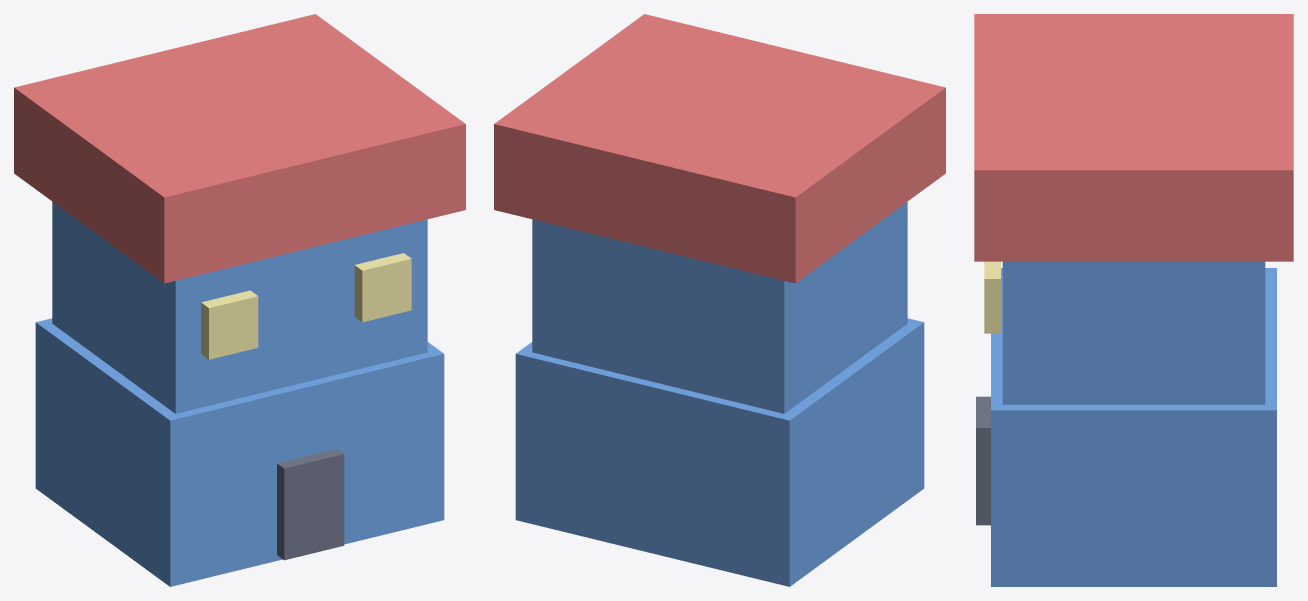
Rendered from house_lv2.gltf.
The picture shows the model from 3 angles, left to right: view 1: azimuth 30°, elevation 25°; view 2: azimuth 150°, elevation 25°; view 3: azimuth 270°, elevation 25°; orthographic projection. The views are drawn at different scales.
Parts seen in each view (by area): view 1: Roof, L1, L2, Door, W2, W1; view 2: Roof, L1, L2; view 3: Roof, L1, L2, Door, W2.
Boxes of the visible parts, bbox=[...] form: Roof: bbox=[14, 14, 465, 283]; L1: bbox=[35, 318, 444, 586]; L2: bbox=[52, 202, 427, 413]; Door: bbox=[277, 448, 344, 560]; W2: bbox=[354, 253, 411, 322]; W1: bbox=[201, 290, 258, 359]; Roof: bbox=[494, 14, 945, 283]; L1: bbox=[515, 318, 924, 586]; L2: bbox=[532, 202, 907, 413]; Roof: bbox=[974, 14, 1293, 261]; L1: bbox=[991, 268, 1276, 586]; L2: bbox=[1002, 261, 1265, 404]; Door: bbox=[976, 396, 990, 525]; W2: bbox=[984, 261, 1000, 333].
Size of the model in its own units: 1.1 by 1.39 by 0.95.
